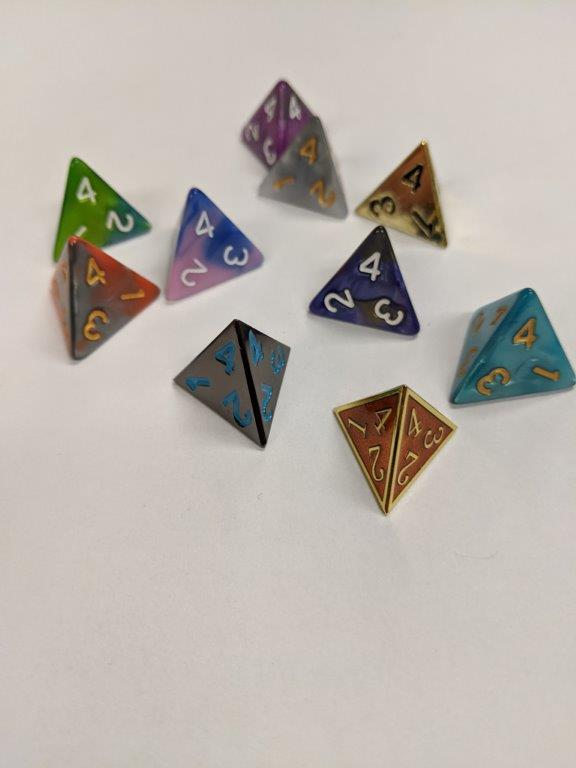d4-4: (331, 383, 461, 513), (174, 315, 294, 452), (444, 284, 576, 401), (47, 236, 163, 360), (303, 224, 423, 338), (164, 182, 266, 308), (350, 139, 452, 249), (50, 153, 153, 260), (259, 113, 350, 221), (239, 78, 302, 162)
